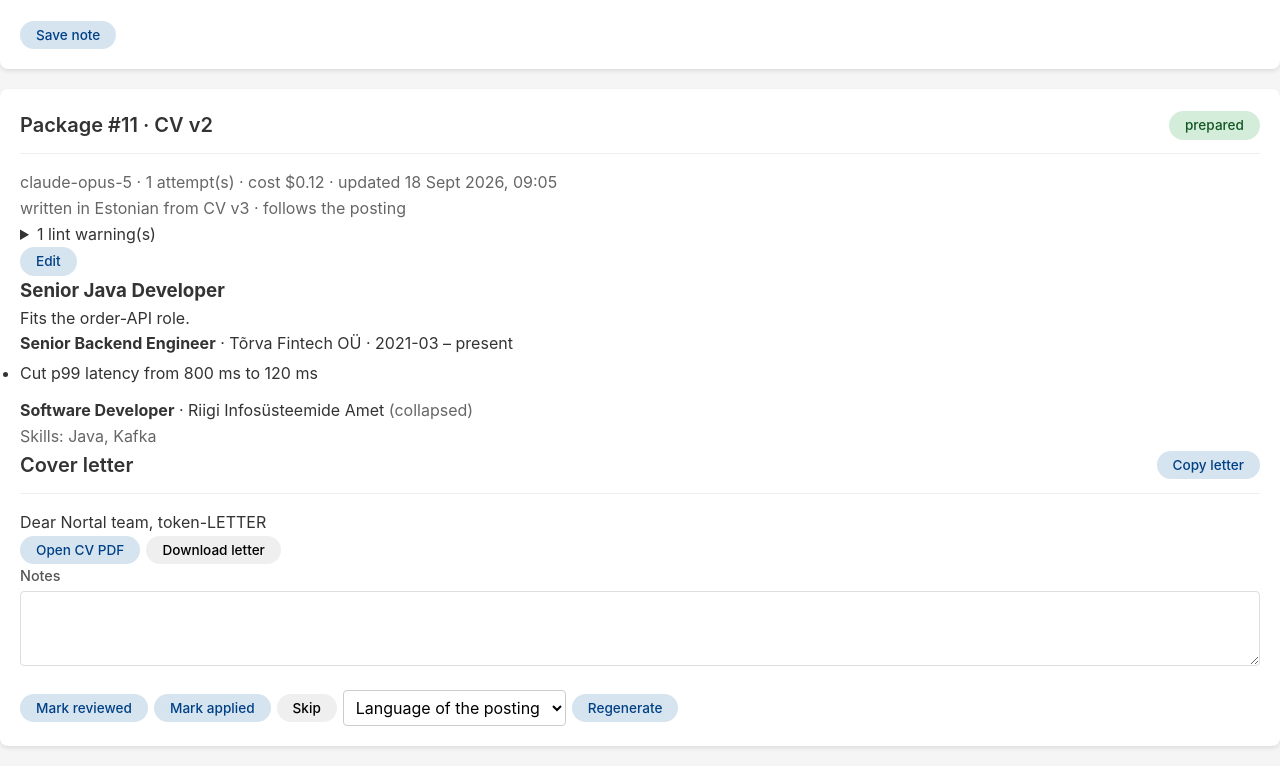
Test case: MasiJobDetail › says what a package is written in and from which version, and regenerates it in the language chosen
This screenshot has width=1280, height=766.
(page scrolled)
Expected: the text with test id "package-language" reads "written in Estonian from CV v3 · follows the posting", [20,198,406,218]
Select "English" in the dropdown named "Language of package #11" at (454, 708), box [343,690,566,726]
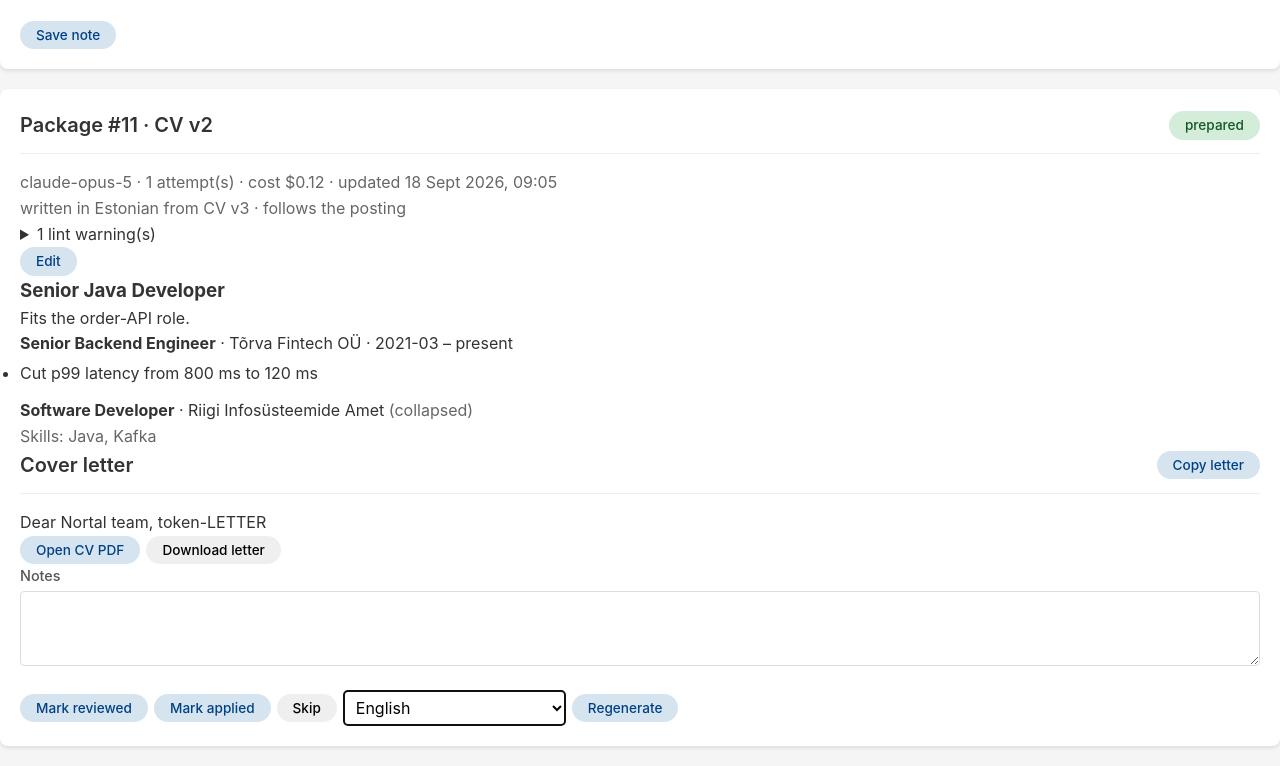
Click the button "Regenerate" at (625, 708), box [572,694,678,722]
(page scrolled)
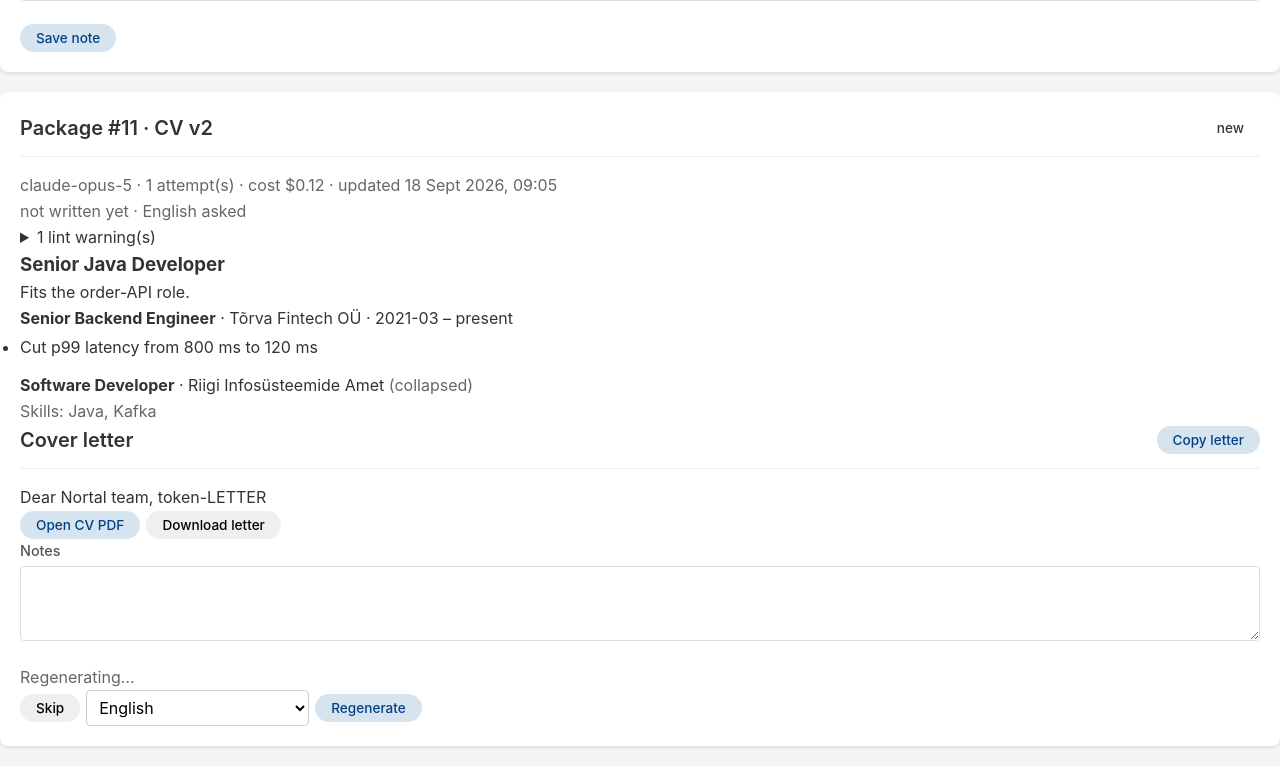
Now the text with test id "package-language" reads "not written yet · English asked", box [20,201,246,221]
